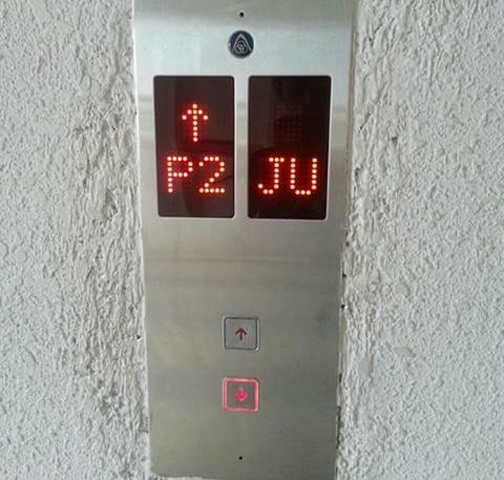down: (222, 376, 260, 413)
led: (245, 71, 334, 223), (150, 72, 238, 222)
unknown: (226, 29, 256, 58)
up: (221, 316, 260, 352)
